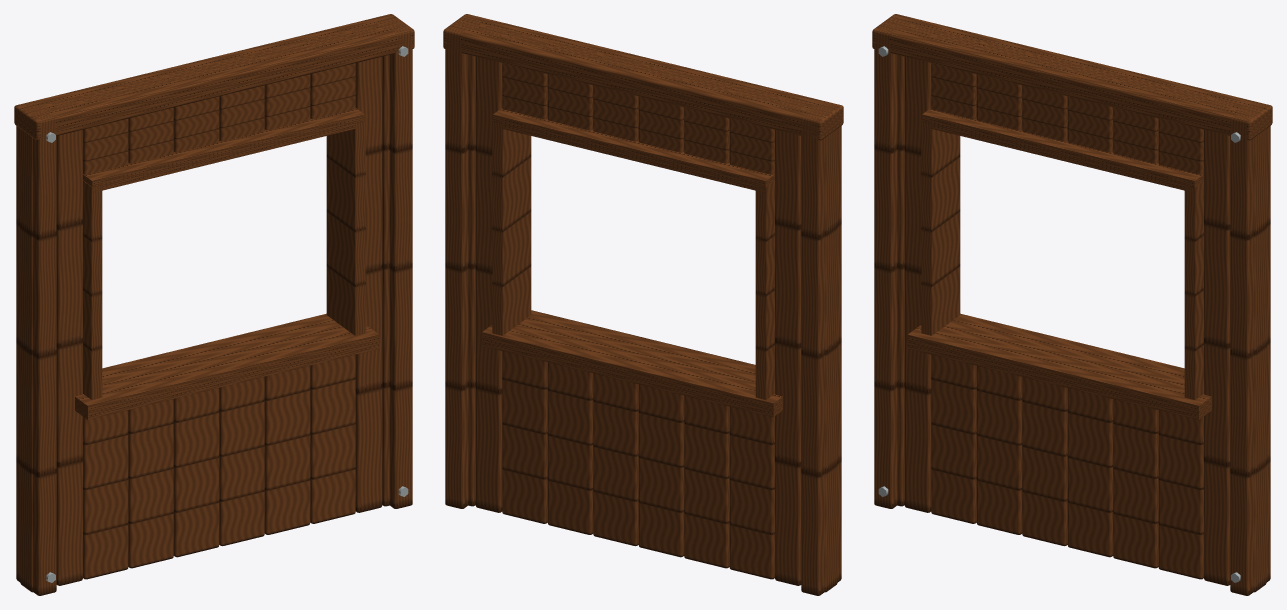
The model's file is modular-survival-base-builder-wall-counter-opening-2b03508b__24160.glb.
3 views of the same model, side by side, from view 1: azimuth 30°, elevation 25°; view 2: azimuth 150°, elevation 25°; view 3: azimuth 330°, elevation 25° (orthographic).
Visible parts, largest first — view 1: wall-counter-opening; view 2: wall-counter-opening; view 3: wall-counter-opening.
Part boxes in pixels (x1,y1,x2,y2): wall-counter-opening: (14, 14, 414, 595); wall-counter-opening: (443, 14, 843, 595); wall-counter-opening: (872, 14, 1272, 595).
Bounding box in the file's own units: 2 × 2.4 × 0.3199.
Materials: 2 (1 with a texture image).
